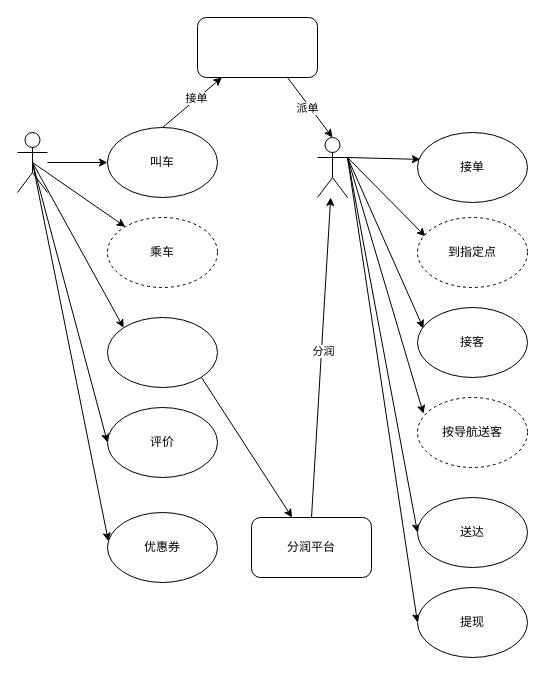
This 545x675 diagram has some shape labels left out. The centre of each missing label's shape, as x and y in pixels:
"乘客" belongs at (32,162).
"司机" belongs at (332,167).
"支付车费" belongs at (162,352).
"调度平台" belongs at (257,47).
